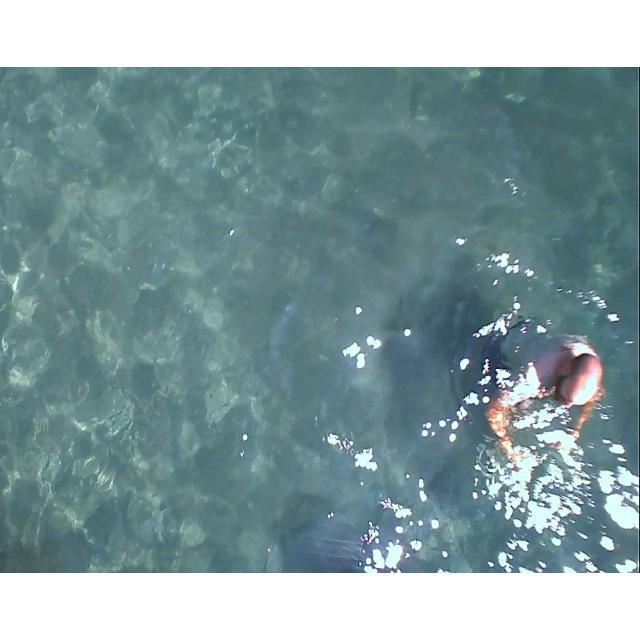human: (484, 310, 602, 444)
